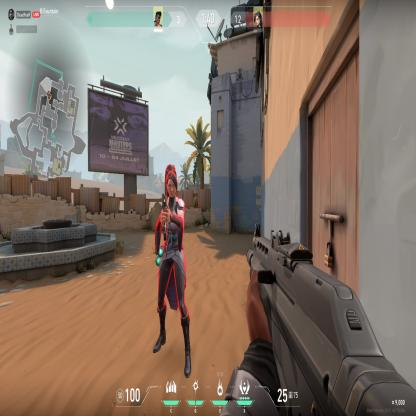enemy: (151, 162, 194, 378)
